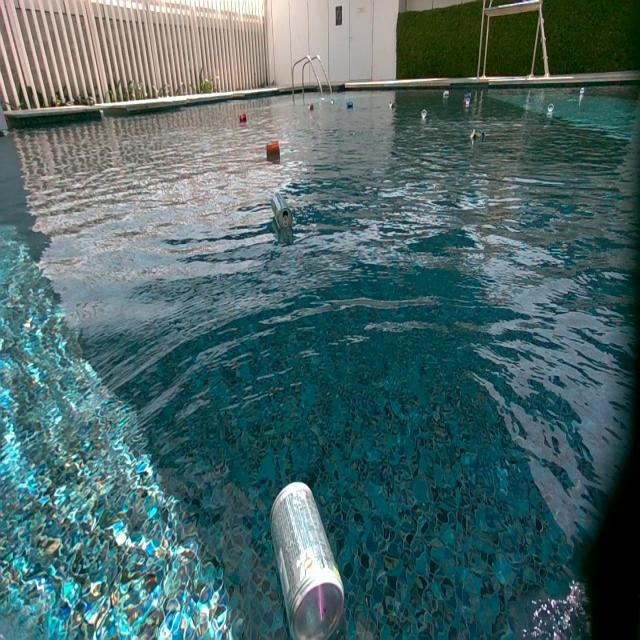Cans: (268, 480, 346, 640), (272, 192, 293, 230), (469, 129, 485, 145), (266, 140, 281, 156), (239, 112, 248, 123), (421, 108, 428, 120), (346, 101, 355, 110), (463, 95, 471, 104), (307, 103, 315, 112), (548, 102, 556, 111), (578, 88, 584, 98), (443, 91, 450, 99), (389, 102, 396, 110), (330, 100, 334, 106)
